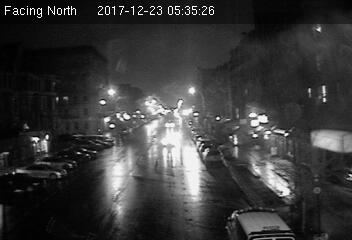car: (201, 147, 224, 163)
police: (224, 205, 301, 240)
